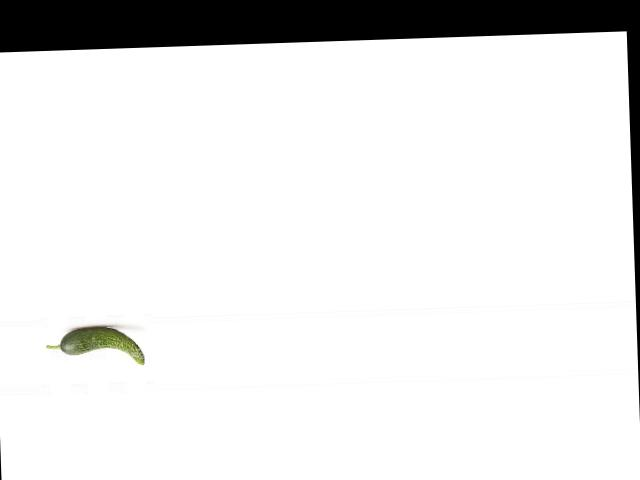cucumber: (45, 325, 144, 367)
